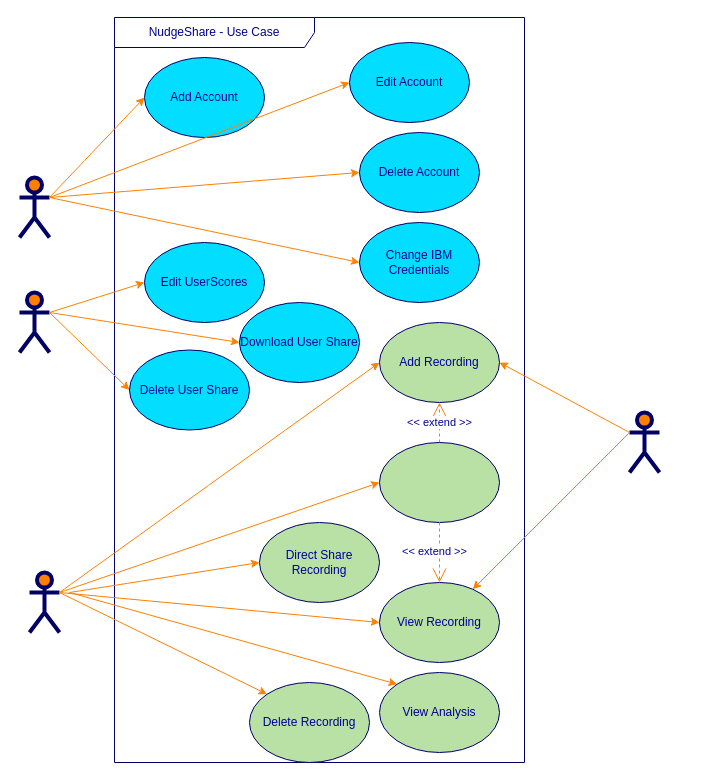
The diagram is 706 pixels wide and 780 high, and some of its shapes have lost their labels. The box of each missing label's shape, as (x1, y1, x2, y2) in pixels:
Admin: (17, 175, 51, 239)
App User: (27, 570, 61, 634)
IBM STT Service: (627, 410, 661, 474)
SRO: (17, 290, 51, 354)
Update Share Preference: (378, 442, 500, 522)
